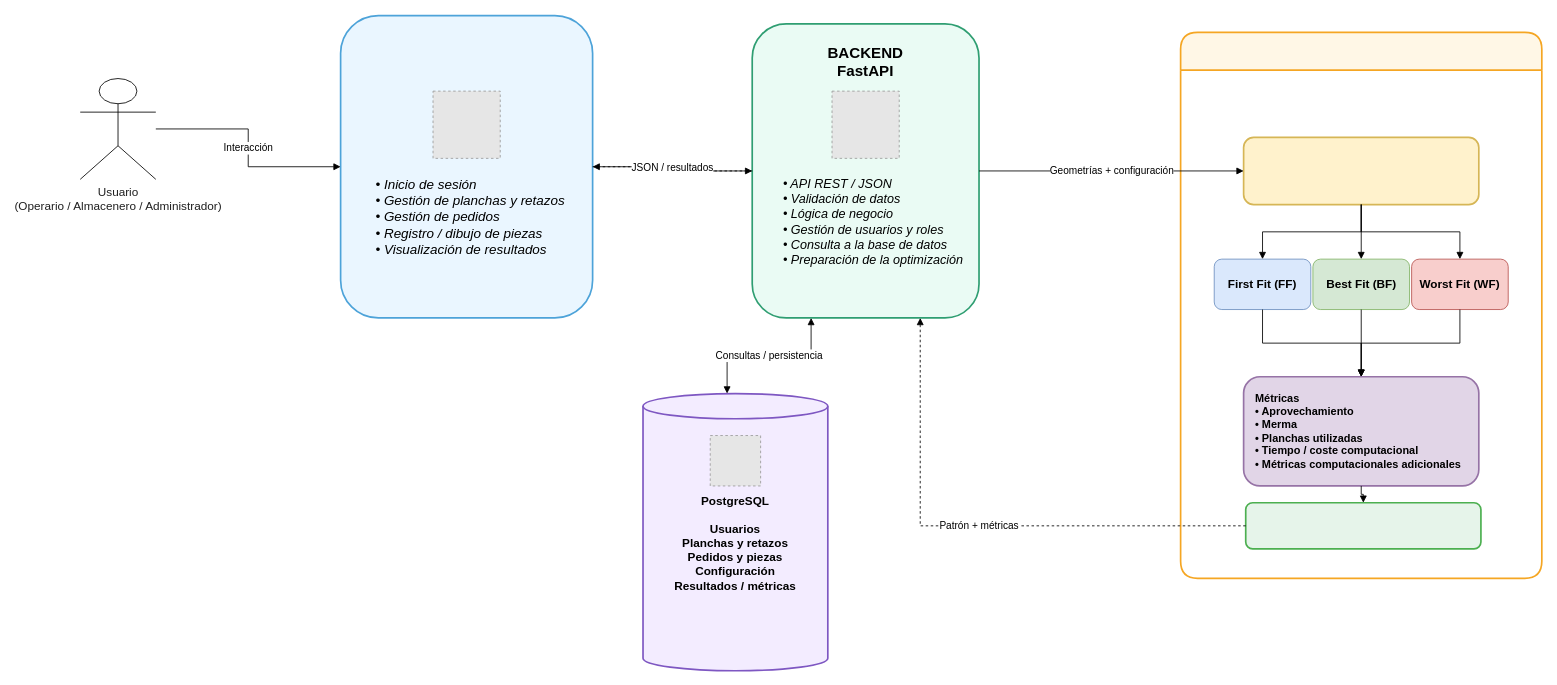
The diagram is 1557 pixels wide and 685 high, and some of its shapes have lost their labels. Grey dashed boxes stand in for pictures. The shapes that lost their labels are listed below. From the top down, each one's box as (x1, y1, x2, y2) in pixels, then its label:
(339, 14, 593, 318): FRONTEND React
(1242, 136, 1479, 205): Rasterización Convierte piezas y material en matrices/máscaras
(1179, 31, 1542, 579): MOTOR DE OPTIMIZACIÓN Geometría rasterizada
(1244, 501, 1481, 549): Resultado de optimización Patrón + métricas + método seleccionado
